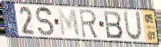2: (19, 6, 36, 36)
B: (102, 10, 124, 40)
M: (57, 8, 82, 39)
R: (78, 8, 101, 40)
S: (35, 6, 56, 38)
U: (123, 11, 144, 42)
